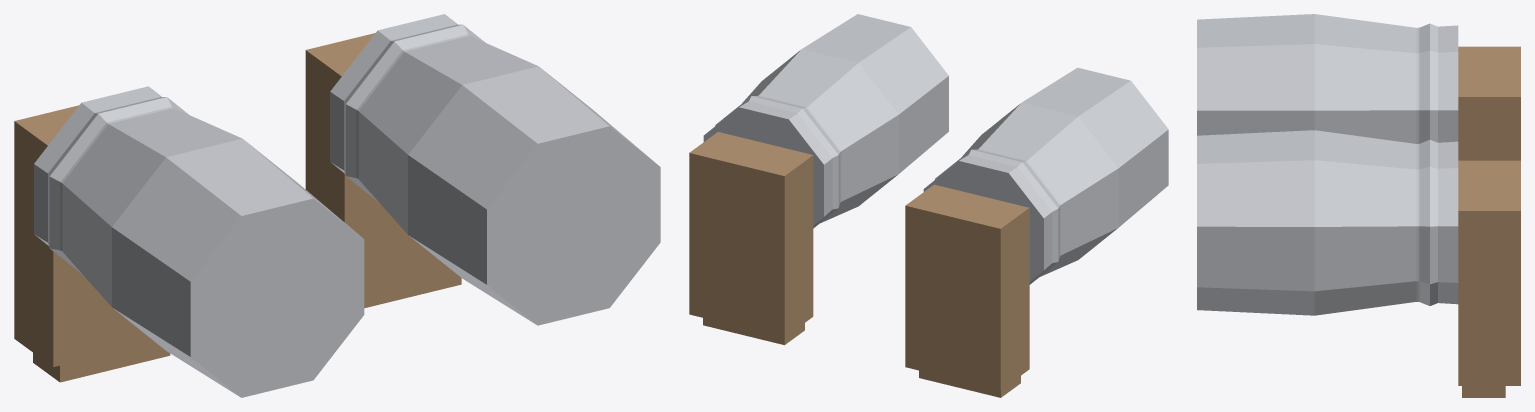
Rendered from boots_wrapped.glb.
3 renders of one model, left to right at view 1: azimuth 30°, elevation 25°; view 2: azimuth 150°, elevation 25°; view 3: azimuth 270°, elevation 25°, orthographic. The views are drawn at different scales.
Parts seen in each view (by area): view 1: LowerLegL, LowerLegR, FootR, FootL; view 2: LowerLegR, LowerLegL, FootR, FootL; view 3: LowerLegL, LowerLegR, FootL, FootR.
Part boxes in pixels (x1=…): LowerLegL: x1=330, y1=14, x2=660, y2=325; LowerLegR: x1=34, y1=86, x2=364, y2=397; FootR: x1=14, y1=105, x2=170, y2=382; FootL: x1=305, y1=33, x2=461, y2=308; LowerLegR: x1=923, y1=67, x2=1168, y2=284; LowerLegL: x1=703, y1=14, x2=948, y2=228; FootR: x1=905, y1=184, x2=1029, y2=397; FootL: x1=689, y1=132, x2=813, y2=345; LowerLegL: x1=1197, y1=130, x2=1458, y2=315; LowerLegR: x1=1197, y1=14, x2=1458, y2=143; FootL: x1=1458, y1=160, x2=1520, y2=397; FootR: x1=1458, y1=46, x2=1520, y2=160.
Size of the model in its own units: 0.7861 by 0.4511 by 0.57.
